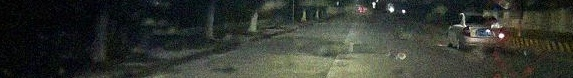L_light: (462, 26, 471, 37)
R_light: (498, 27, 505, 39)
T_light: (476, 16, 486, 18)
night-right: (461, 13, 505, 52)
